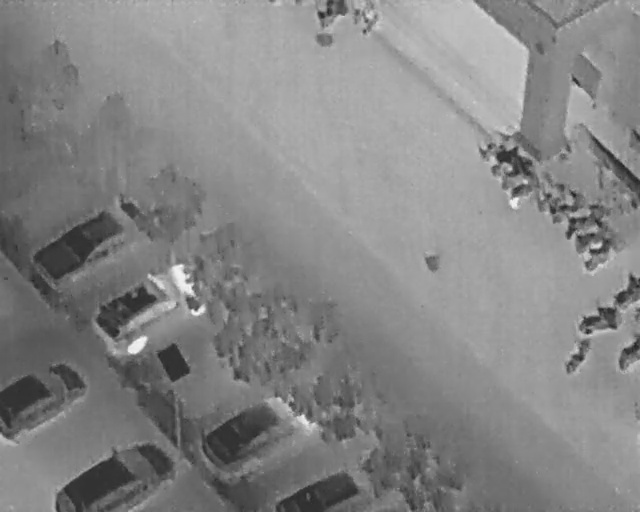Bicycle: (554, 194, 610, 243), (541, 185, 590, 230), (575, 231, 625, 275), (566, 214, 615, 256), (500, 169, 547, 211), (570, 303, 622, 339), (529, 176, 572, 215), (493, 153, 538, 190), (560, 334, 596, 379), (483, 144, 525, 177), (613, 271, 639, 312), (355, 6, 383, 40), (474, 136, 509, 163), (316, 0, 347, 30), (618, 335, 639, 373), (349, 0, 372, 27)
Car: (80, 247, 218, 369), (193, 374, 325, 486), (23, 190, 154, 298), (53, 441, 180, 511), (0, 359, 88, 443), (272, 469, 363, 511)
